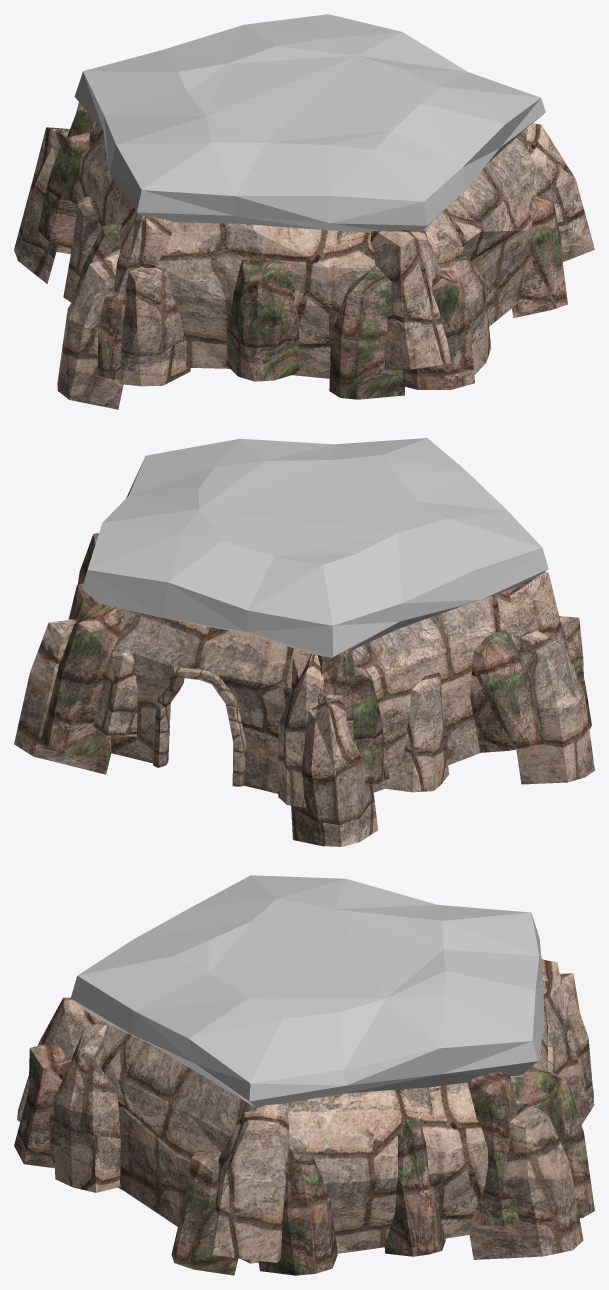
Rendered from thm_dant_large_communal_l0.fbx.
The picture shows the model from 3 angles, top to bottom: view 1: azimuth 30°, elevation 25°; view 2: azimuth 150°, elevation 25°; view 3: azimuth 270°, elevation 25°; orthographic projection. The views are drawn at different scales.
Visible parts, largest first — view 1: mesh_node; view 2: mesh_node; view 3: mesh_node.
Boxes of the visible parts, x1,y1,x2,y2 form: mesh_node: [14, 14, 594, 409]; mesh_node: [14, 438, 594, 846]; mesh_node: [14, 875, 594, 1275].
Bounding box in the file's own units: 32 × 13.87 × 30.57.
